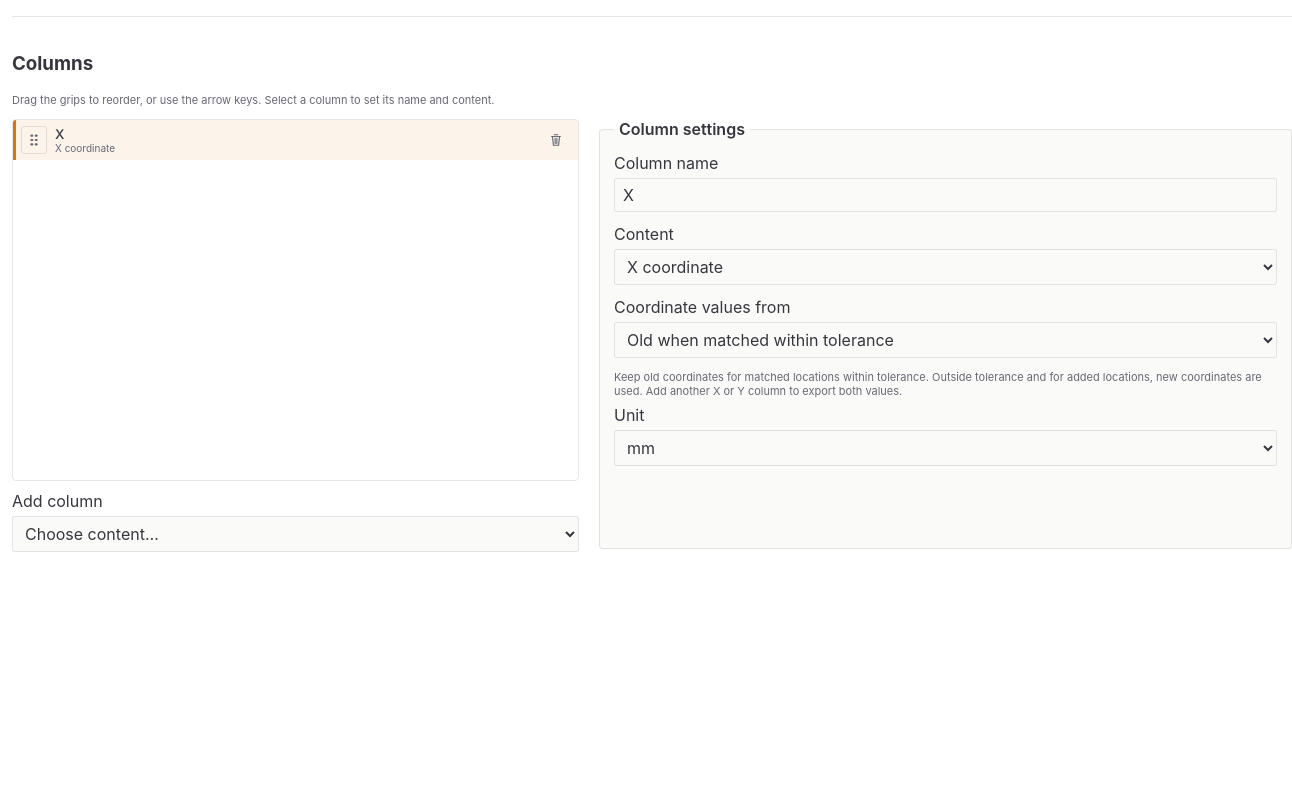
Test: revision coordinate columns independently select old-within-tolerance or new coordinates
The image size is (1292, 800).
Step 1. Select "New" in the dropdown labelled "Coordinate values from" → x=946, y=340, box [614,322,1277,358]
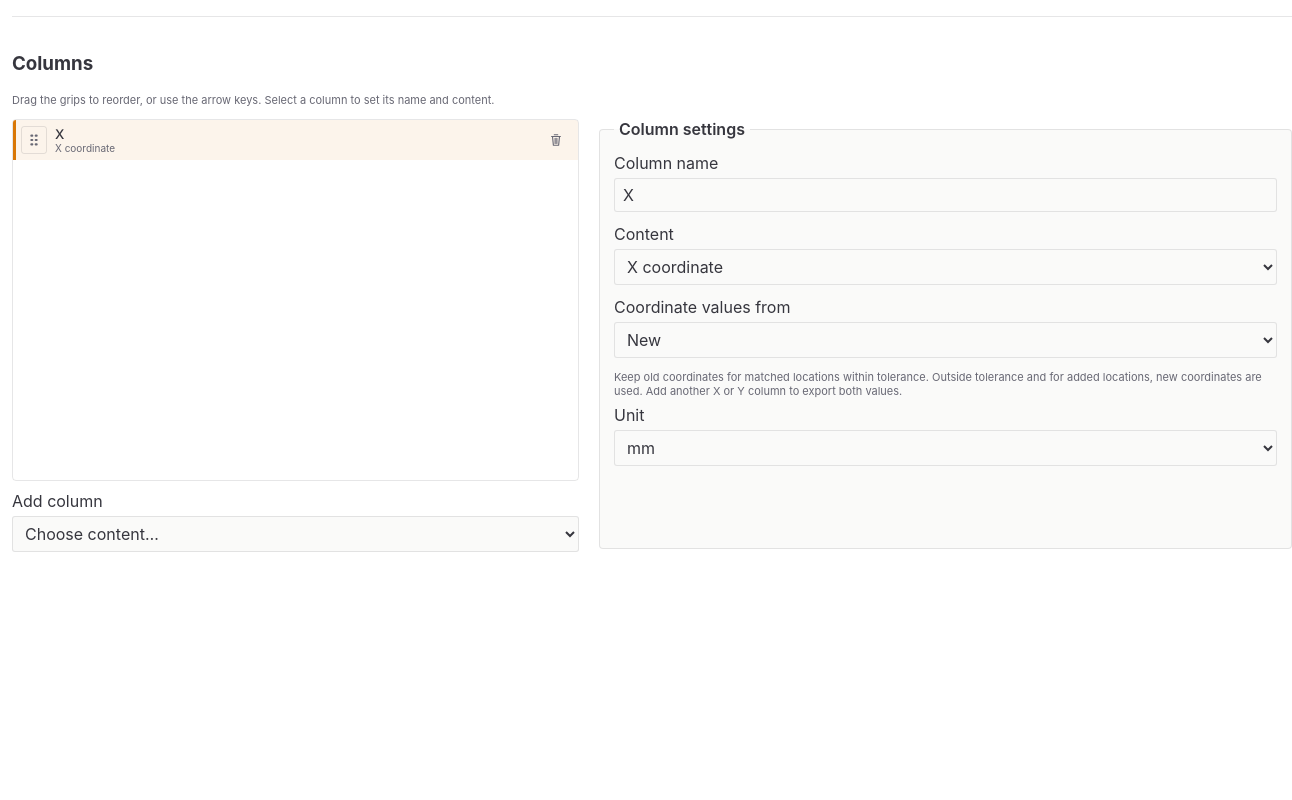
Step 2. Select "X coordinate" in the dropdown labelled "Add column" → x=296, y=534, box [12,516,579,552]
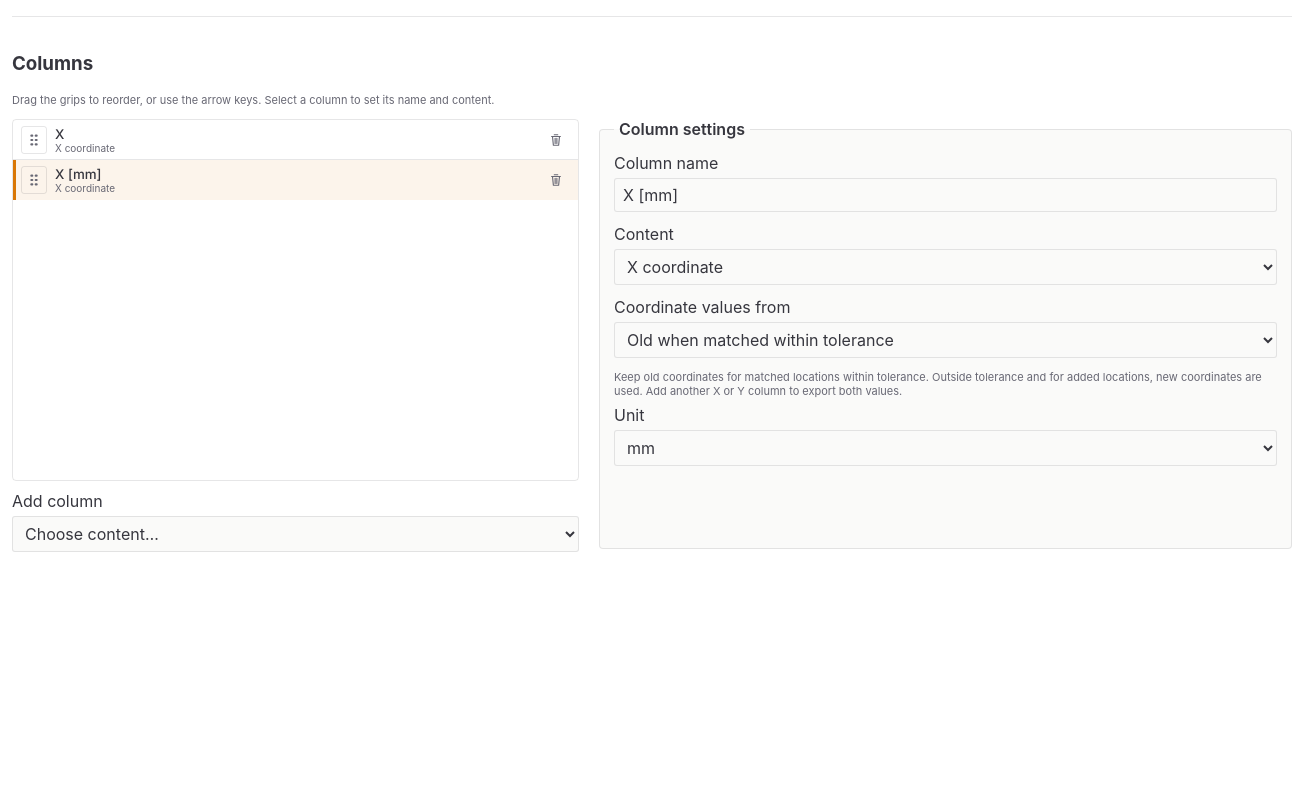
Step 3. Select "Pile size" in the dropdown labelled "Content" → x=946, y=267, box [614,249,1277,285]
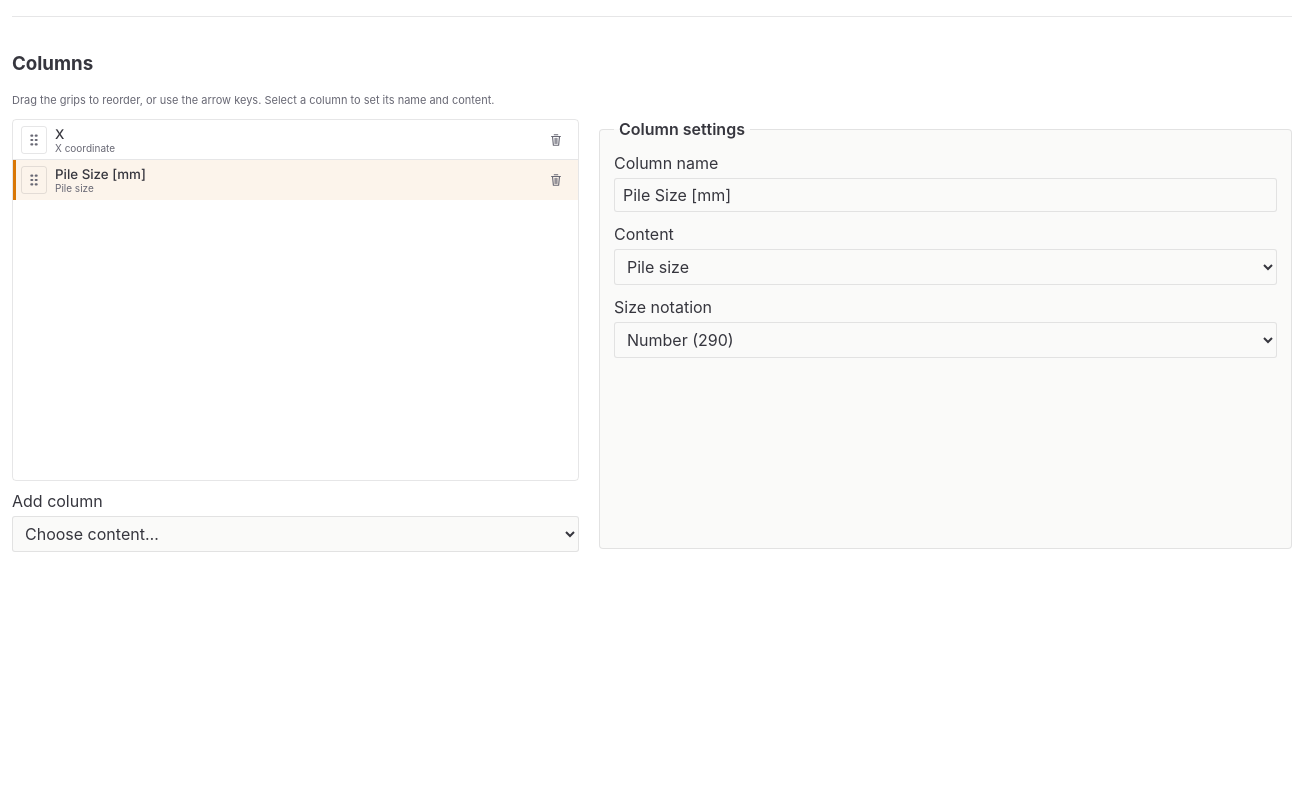
Now the text labelled "Coordinate values from" is gone
